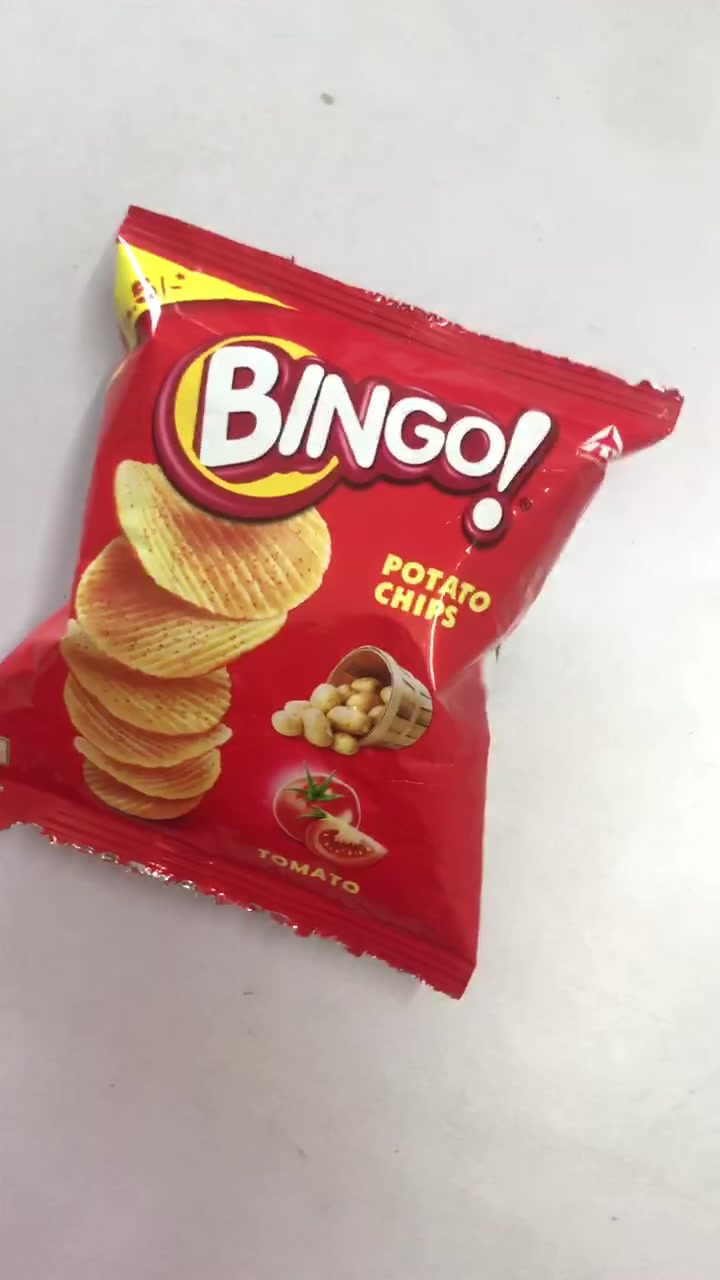Bingo: (9, 212, 681, 996)
